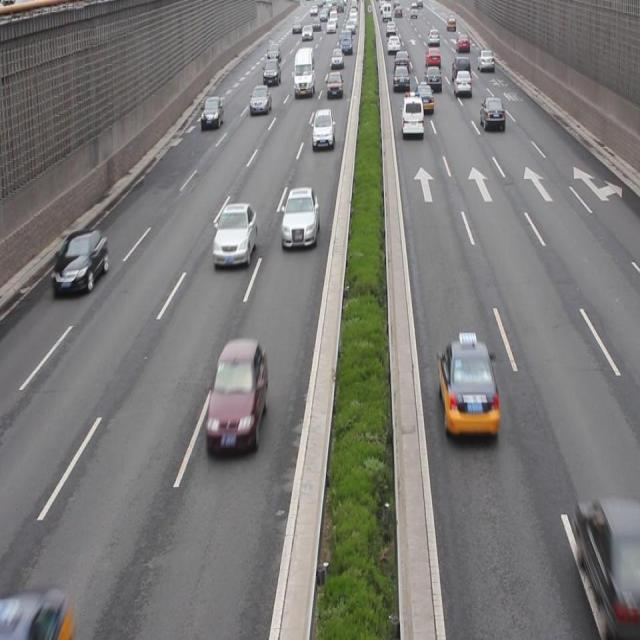car: (574, 497, 640, 634), (436, 327, 496, 439), (208, 338, 266, 446), (1, 588, 72, 640), (53, 228, 109, 292), (213, 202, 258, 266), (280, 187, 320, 247), (312, 109, 335, 151), (479, 96, 504, 133), (200, 96, 223, 128)
truck: (399, 94, 424, 141)
